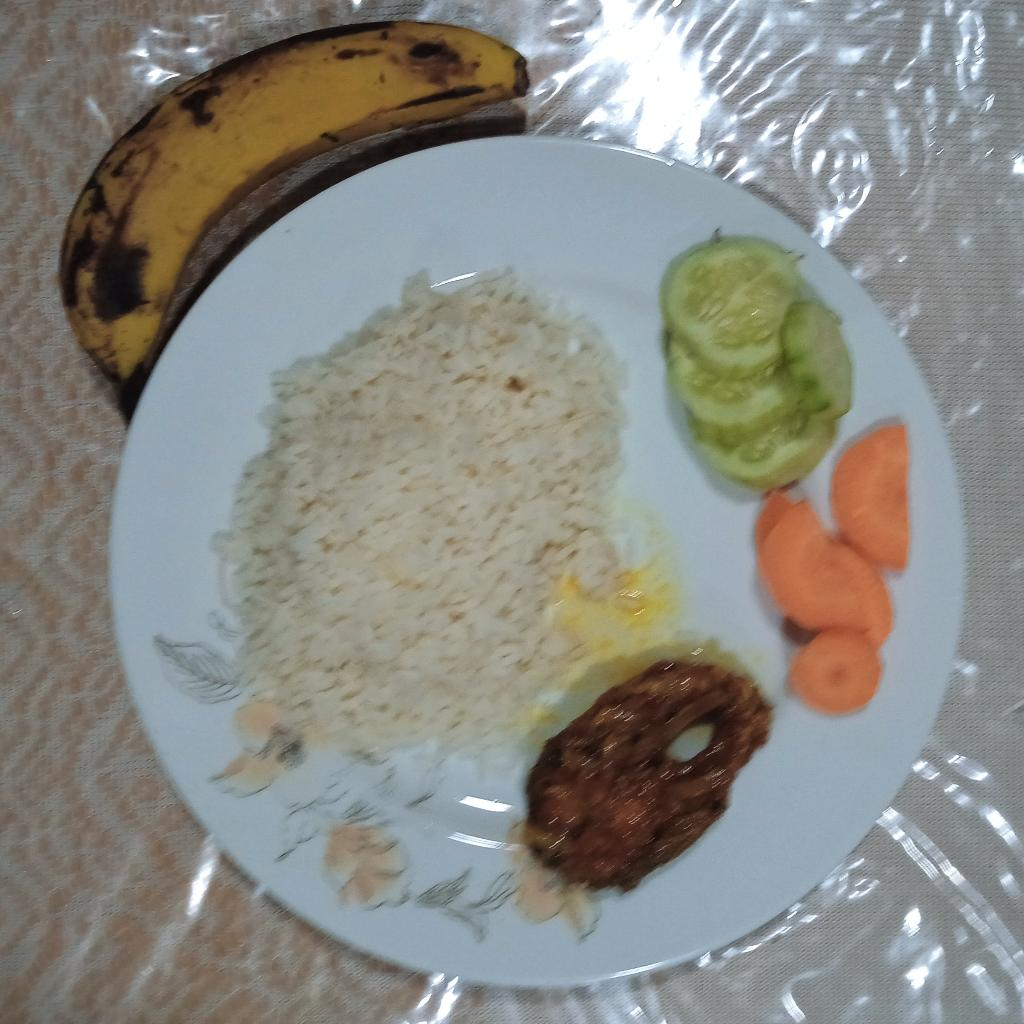banana: (60, 19, 530, 428)
carrot: (754, 424, 911, 713)
cucumber: (664, 241, 852, 490)
fish: (524, 663, 770, 890)
rice: (210, 262, 649, 780)
